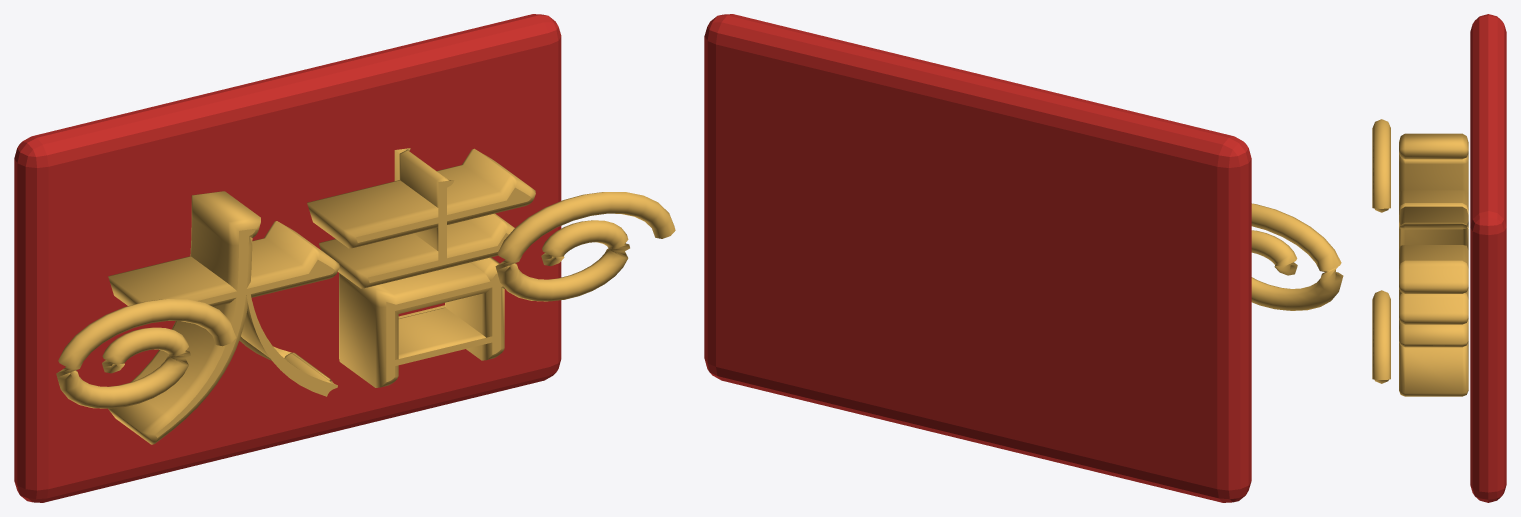
Rendered from word-good-fortune.glb.
3 renders of one model, left to right at view 1: azimuth 30°, elevation 25°; view 2: azimuth 150°, elevation 25°; view 3: azimuth 270°, elevation 25°, orthographic. The views are drawn at different scales.
Visible parts, largest first — view 1: word-good-fortune; view 2: word-good-fortune; view 3: word-good-fortune.
Part boxes in pixels (bbox=[...]): word-good-fortune: bbox=[14, 14, 675, 502]; word-good-fortune: bbox=[704, 14, 1343, 502]; word-good-fortune: bbox=[1372, 14, 1506, 502].
Size of the model in its own units: 1.09 by 0.6155 by 0.258.
